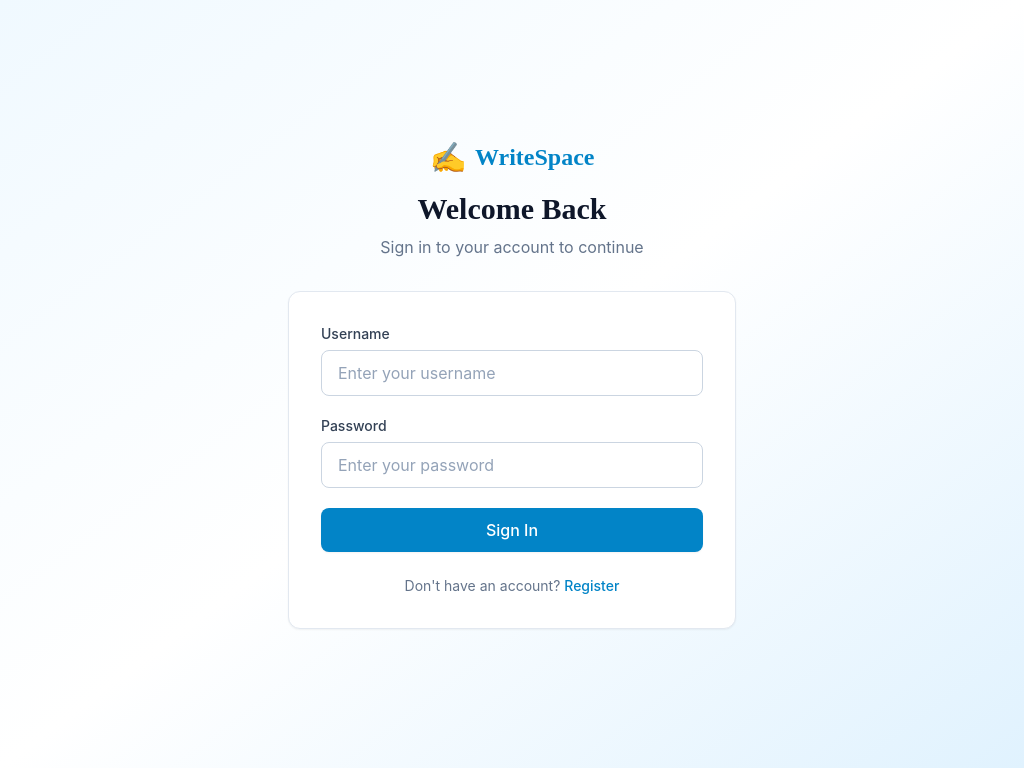
Test: App › navigation › login form submits and redirects user to /blogs
Type "testuser" into the field labelled "Username" at (512, 373), box [321,350,703,396]
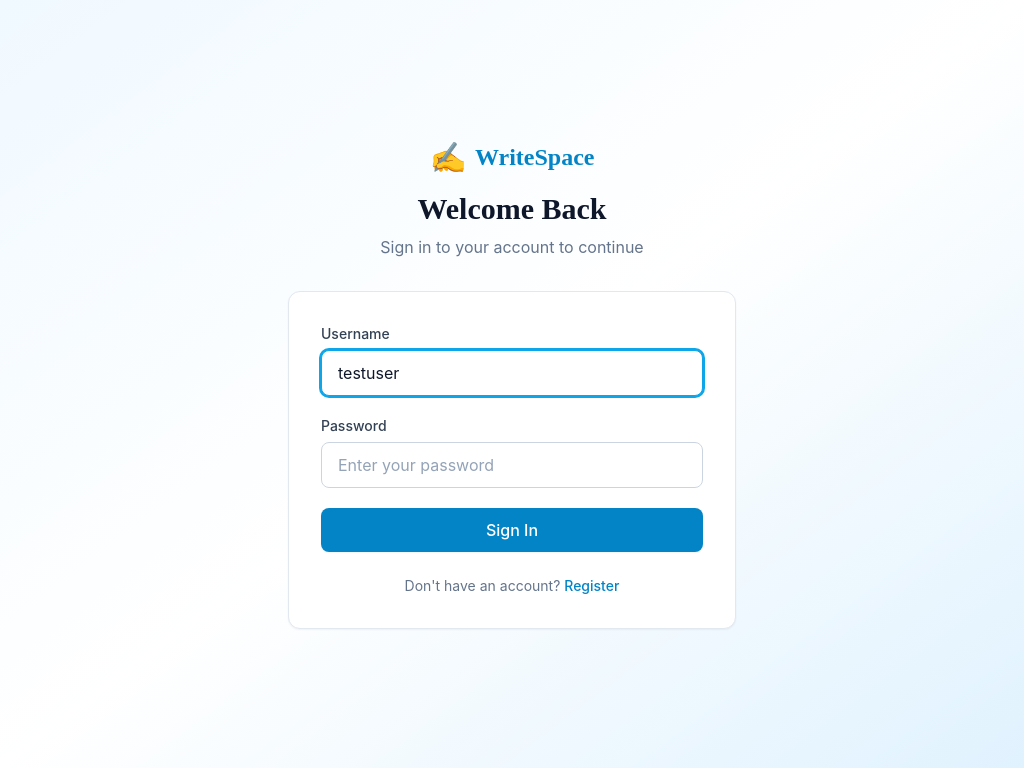
Type "password123" into the password field labelled "Password" at (512, 465), box [321,442,703,488]
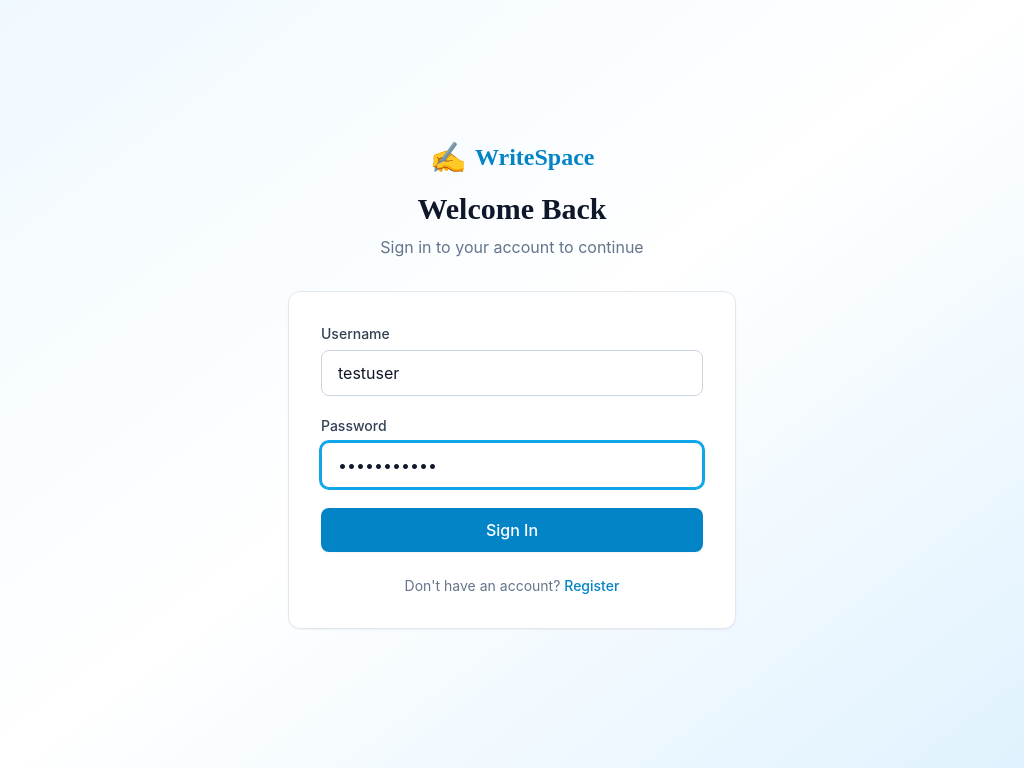
Click the button "Sign In" at (512, 530), box [321,508,703,552]
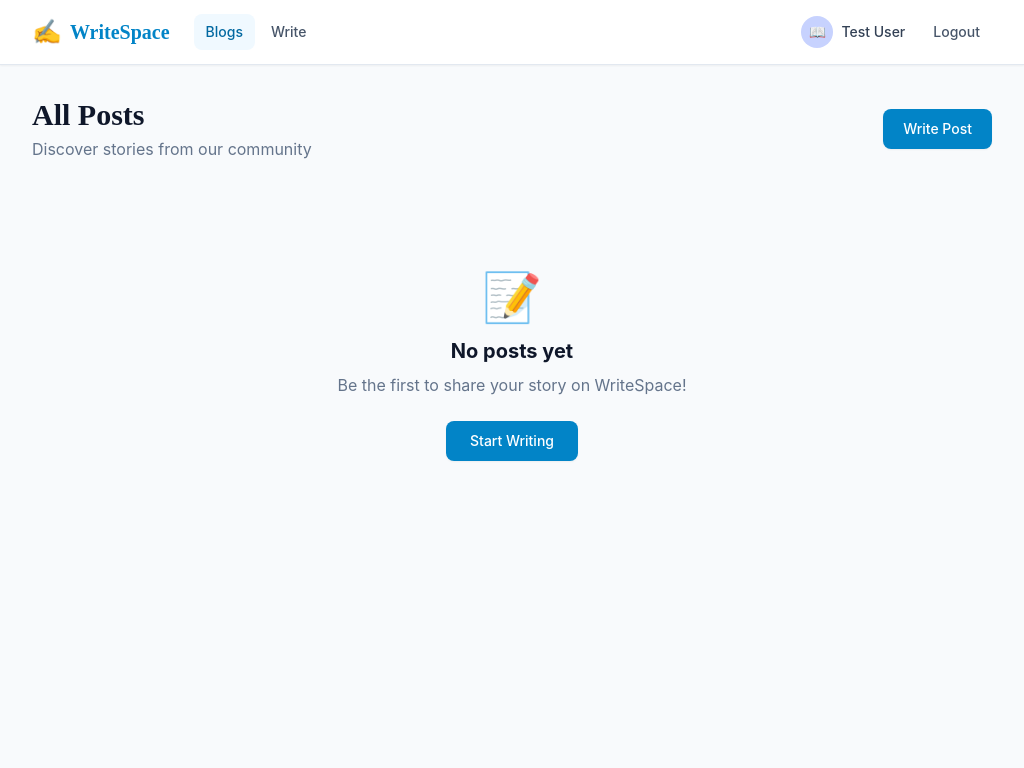
Check: the heading "All Posts" is shown, box [32,98,144,131]
